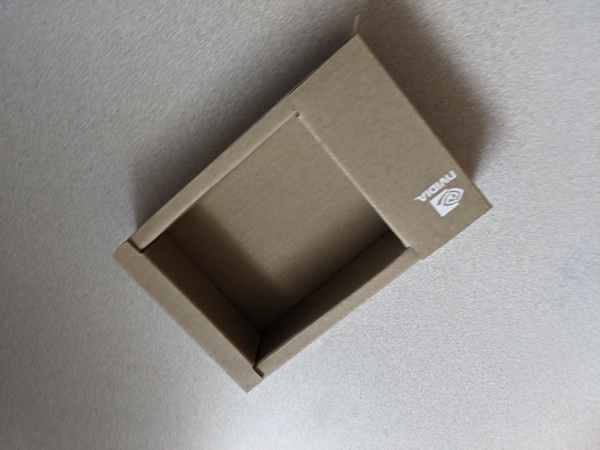cardboard: (92, 16, 512, 404)
